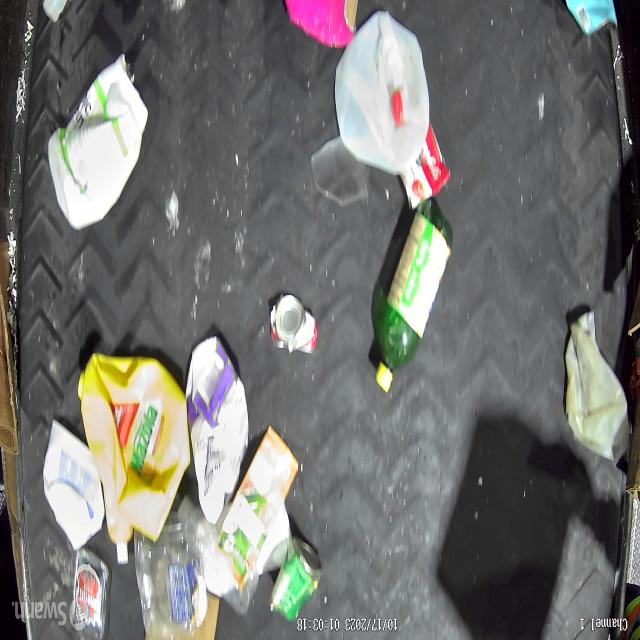can: (270, 538, 320, 622), (273, 292, 315, 354)
milk_jug: (49, 60, 148, 230), (335, 9, 431, 176), (562, 308, 630, 464)
non_white_jug: (76, 353, 191, 542), (186, 336, 248, 522)
